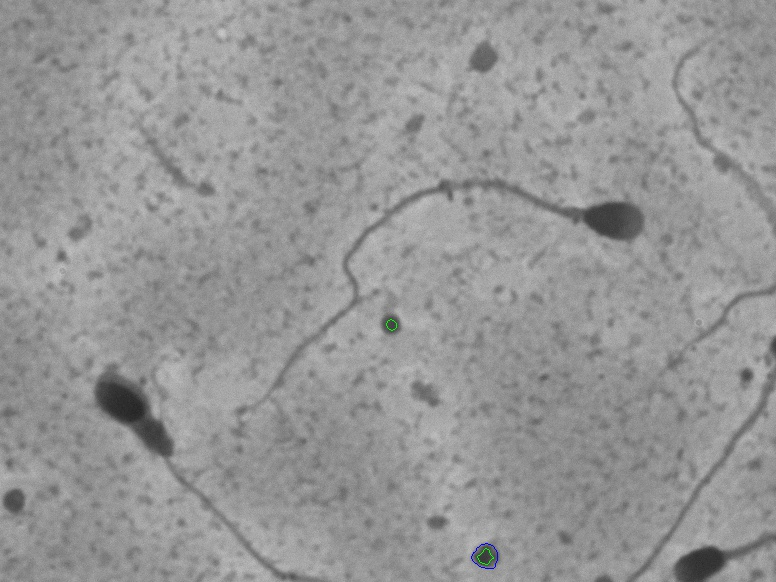Abnormal: (57, 313, 254, 569)
Normal: (224, 139, 653, 409)
